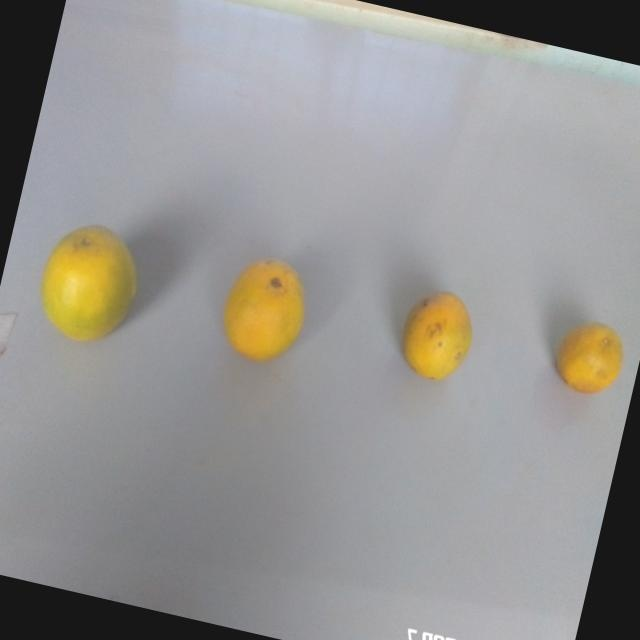agrume: (20, 210, 155, 365), (205, 238, 318, 374), (386, 271, 486, 393), (547, 306, 638, 410)
